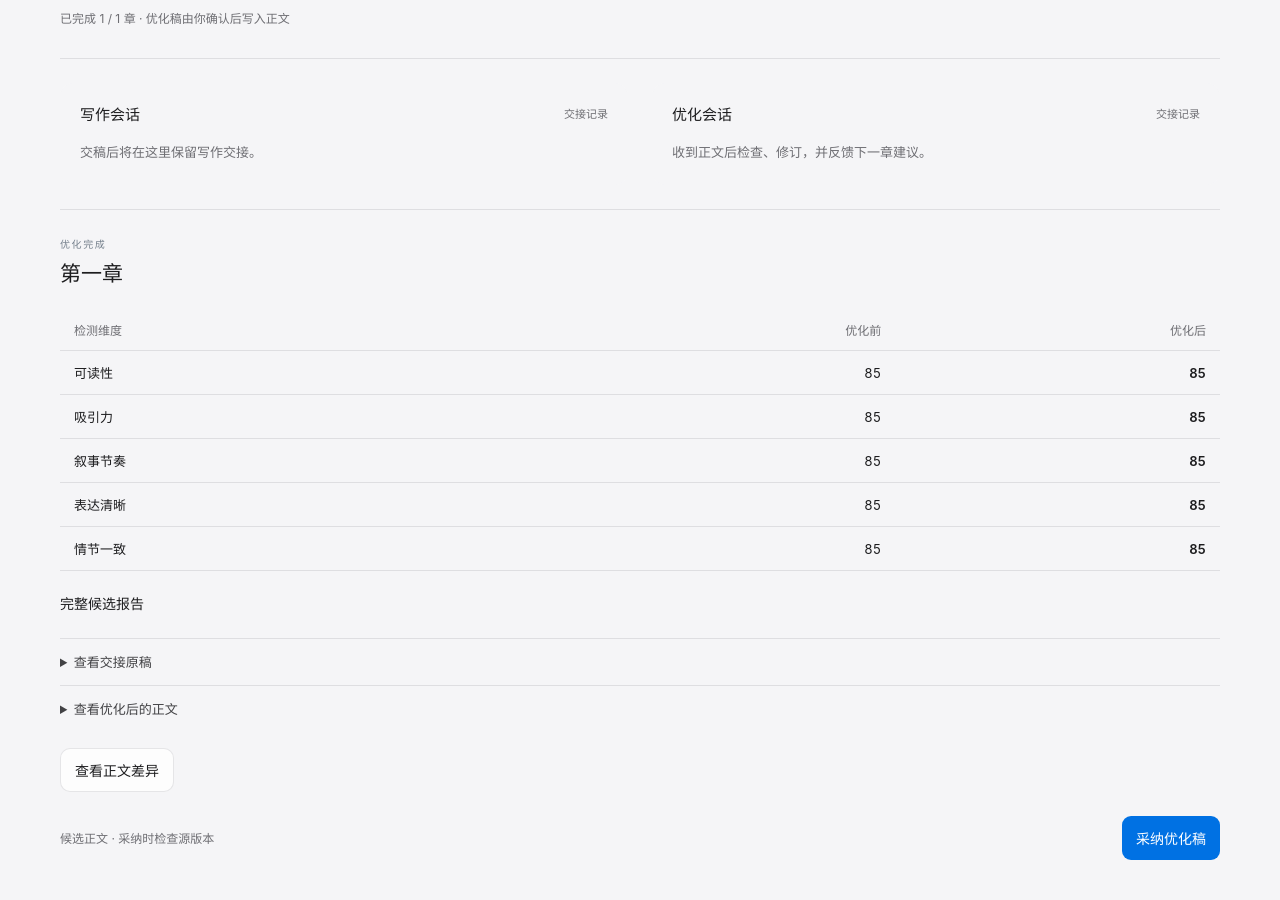
Test case: previews server hunks and submits only selected ids, with explicit partial-review status
(page scrolled)
Click the button "查看正文差异" at (117, 770), box [60,748,174,792]
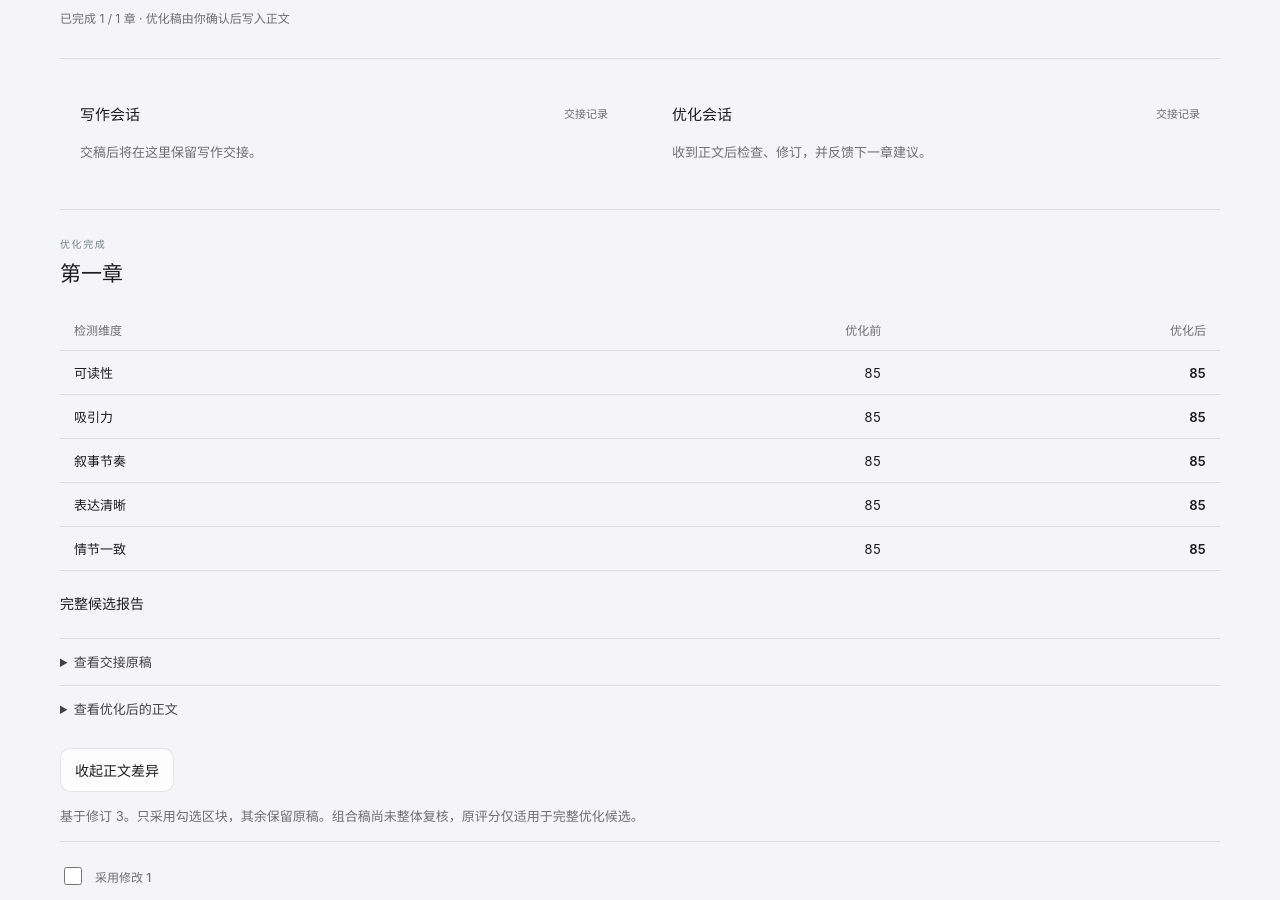
Click the checkbox labelled "采用修改 1" at (73, 876), box [64,867,82,885]
(page scrolled)
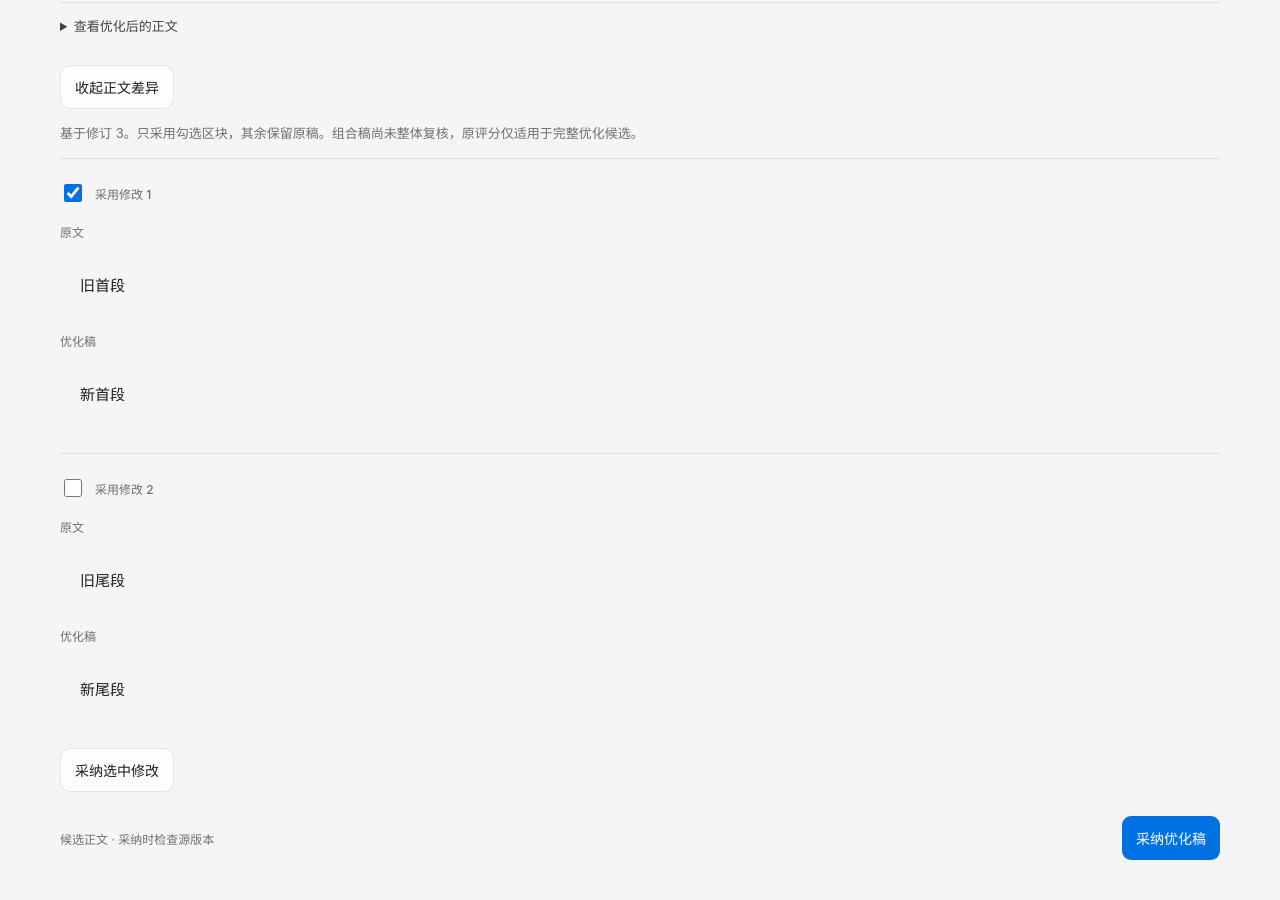
Click the button "采纳选中修改" at (117, 770), box [60,748,174,792]
(page scrolled)
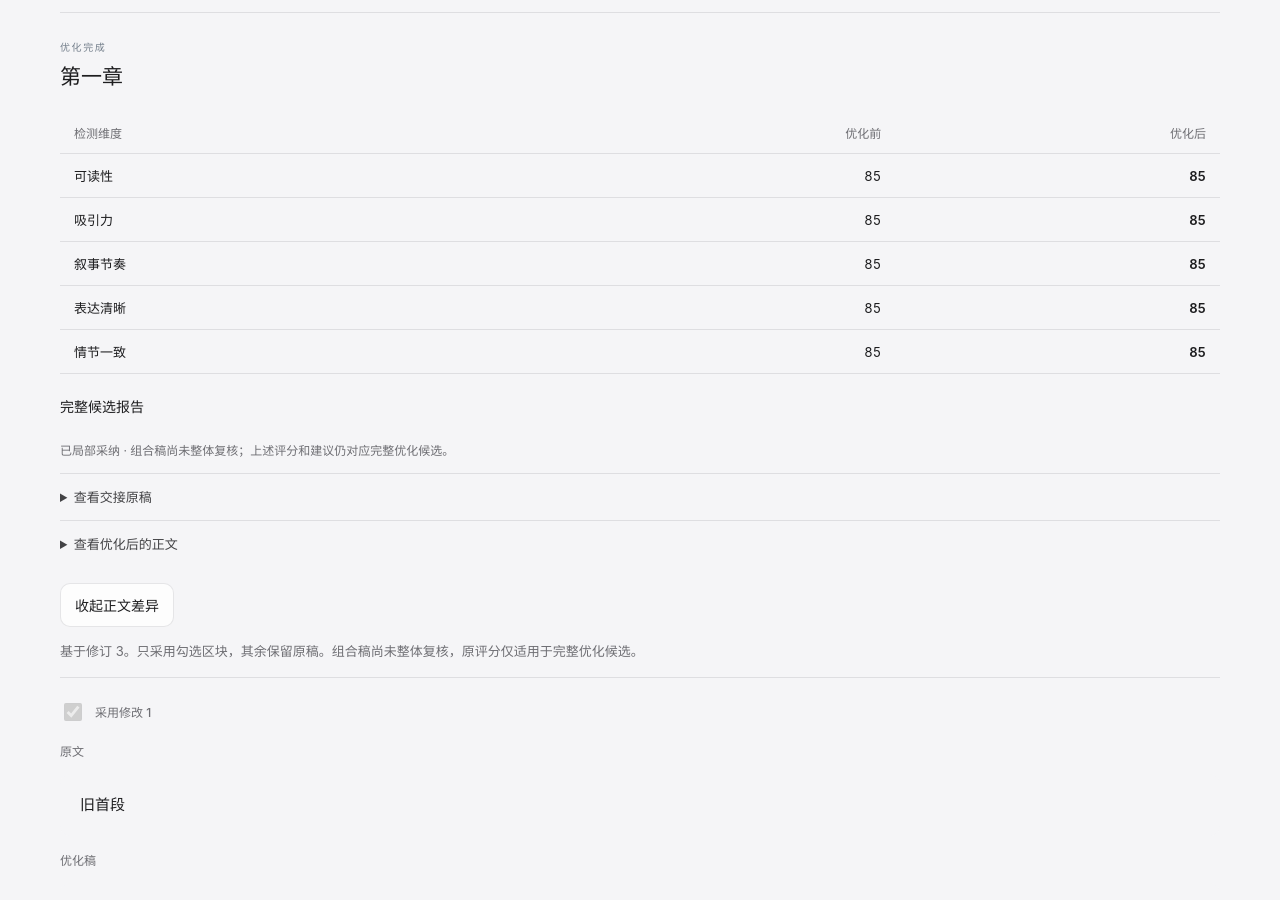
Expected: the text "已局部采纳 · 组合稿尚未整体复核；上述评分和建议仍对应完整优化候选。" is shown, [60,443,454,458]
